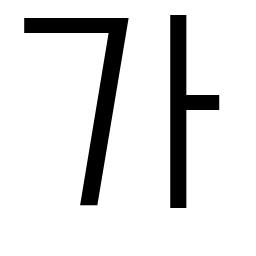Gaji: (153, 83, 208, 130)
